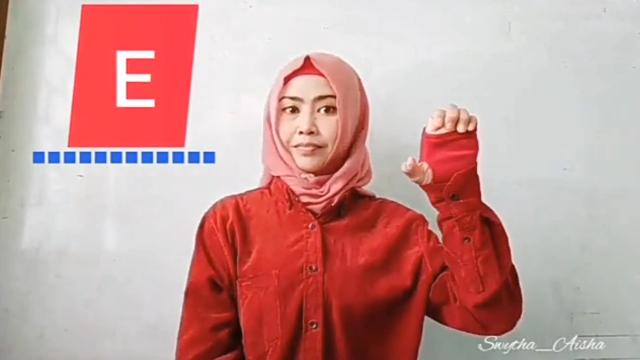E: (400, 103, 482, 194)
